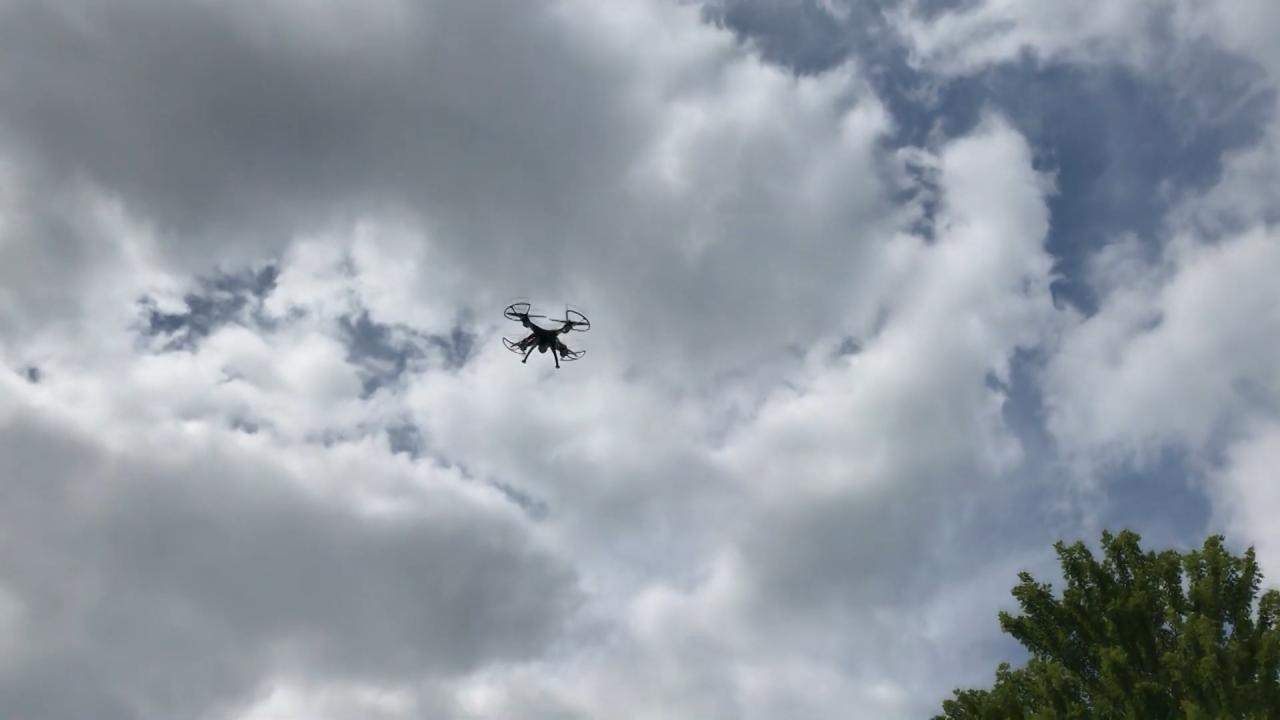Drone: (490, 290, 599, 382)
